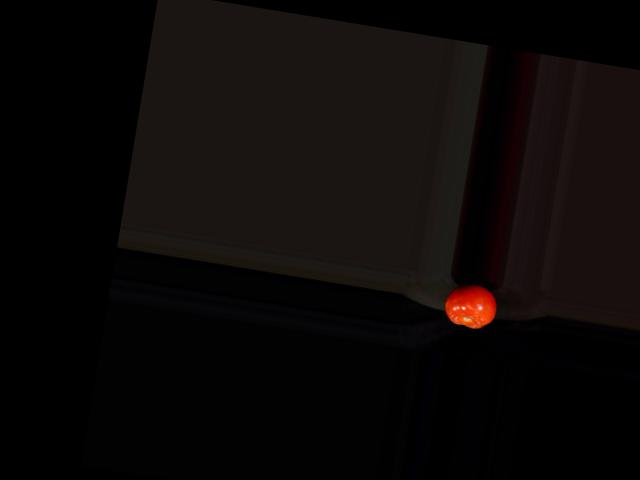tomato: (442, 279, 501, 331)
